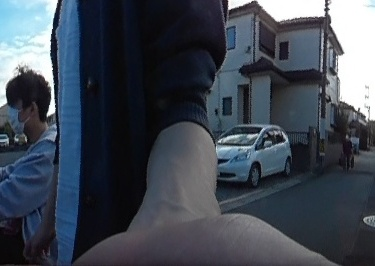person: (342, 133, 354, 167)
